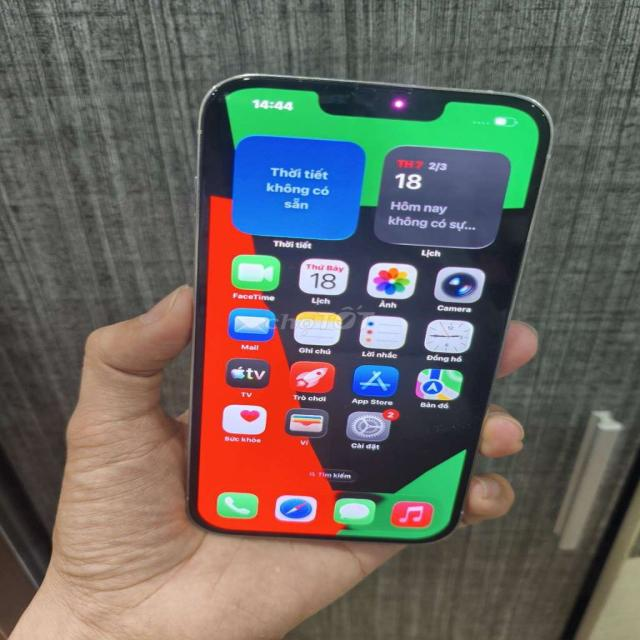gen_12_13: (173, 58, 558, 559)
